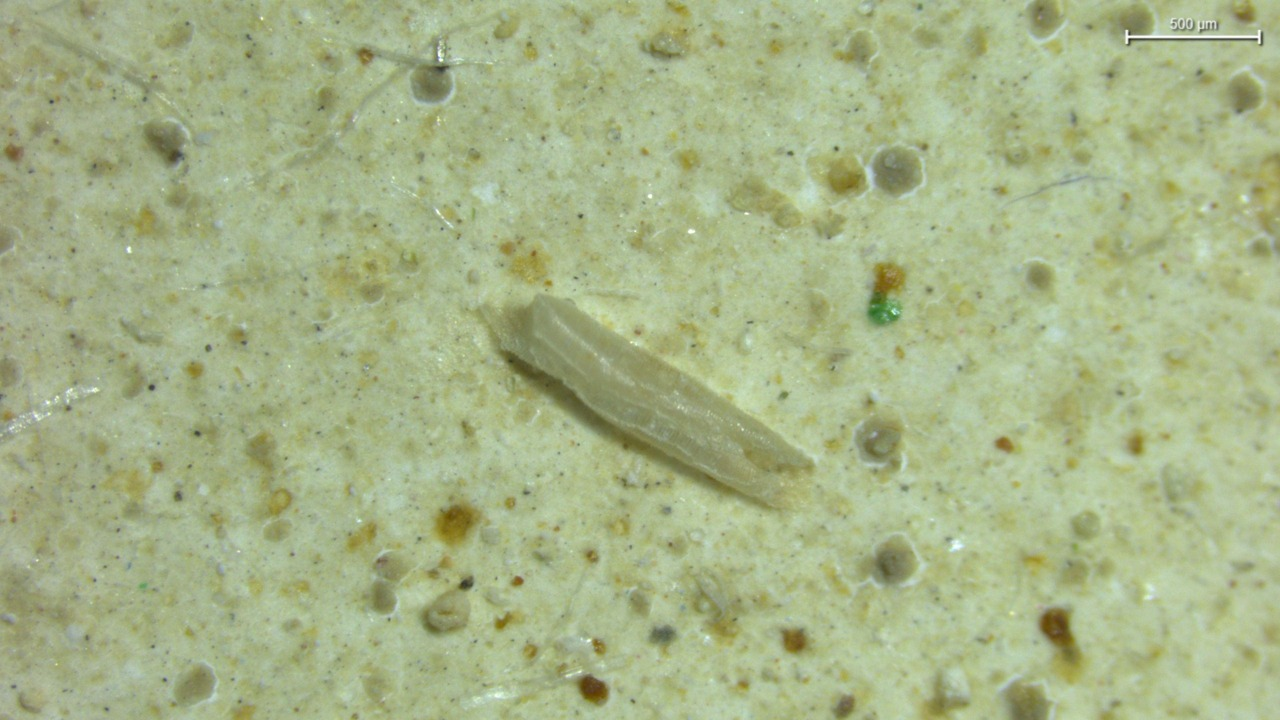microplastic_fragment: (492, 294, 813, 507), (425, 589, 470, 632)
